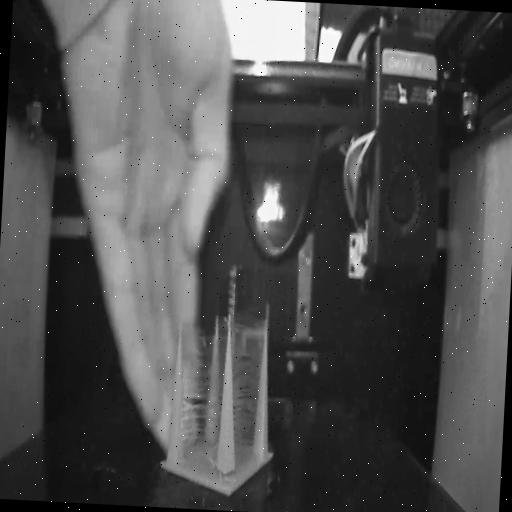stringing: (176, 320, 224, 475), (230, 321, 264, 475)
